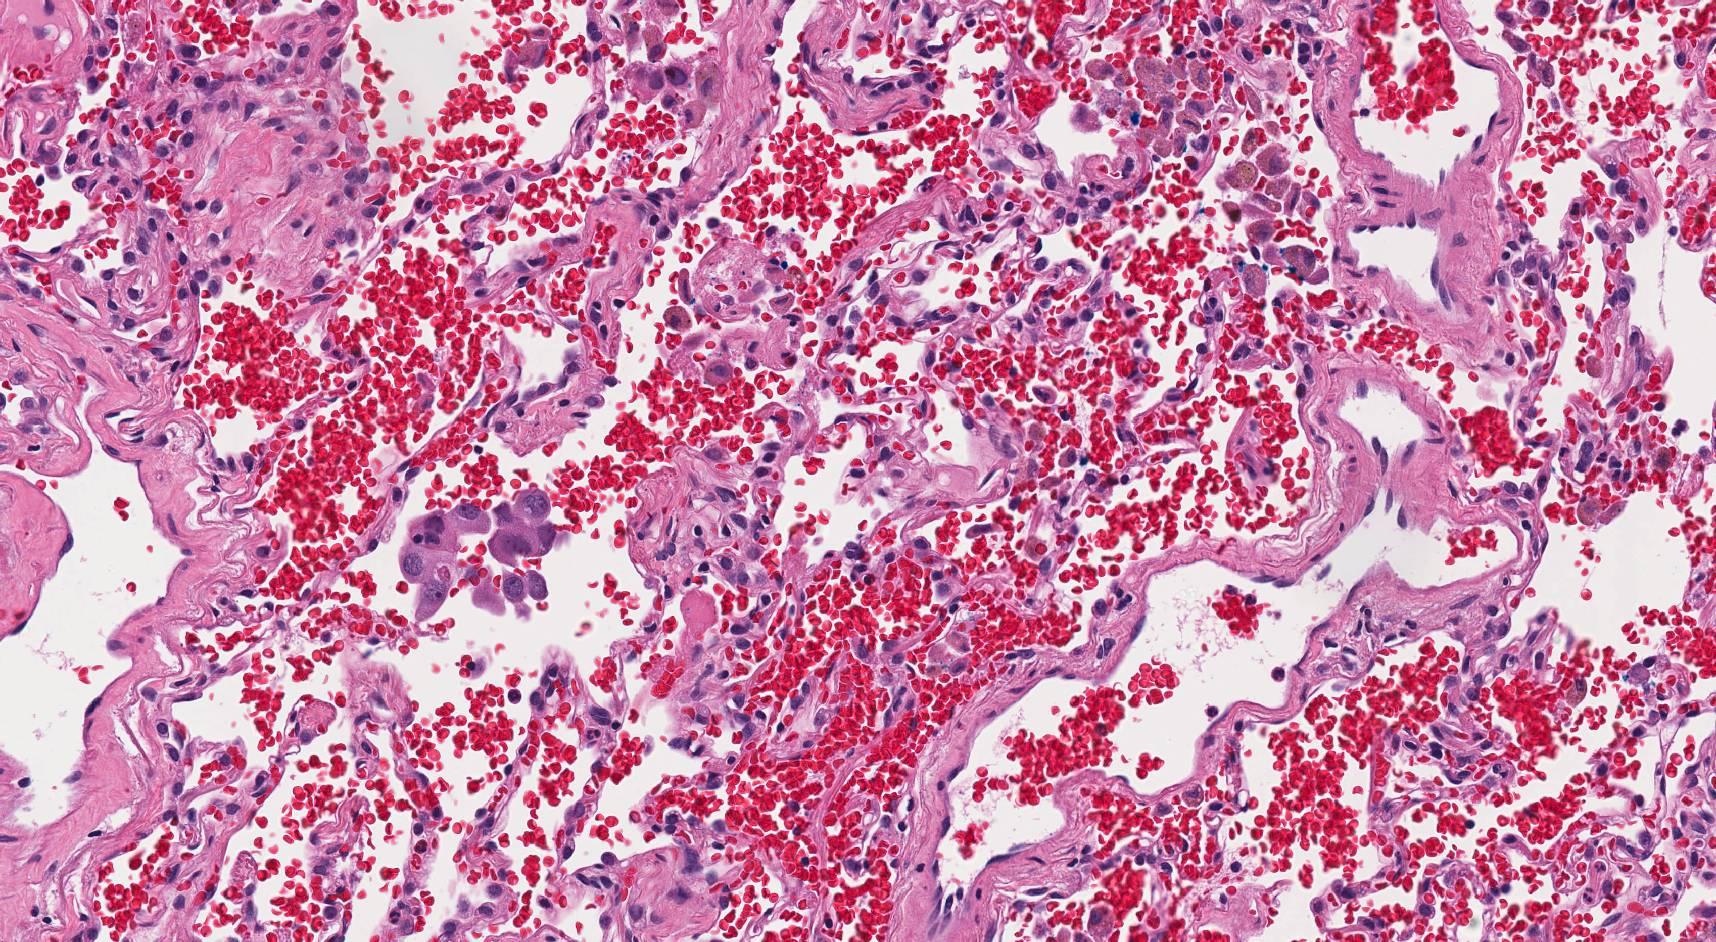stas: (400, 491, 558, 628)
